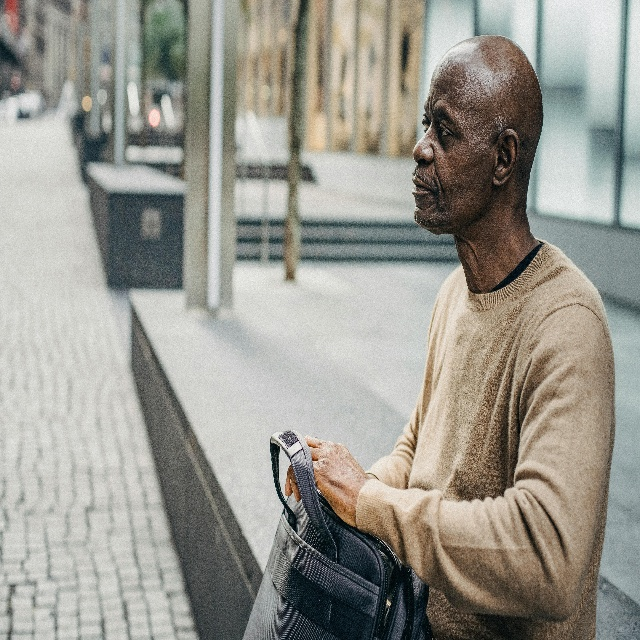Sin_guantes: (283, 429, 371, 532)
